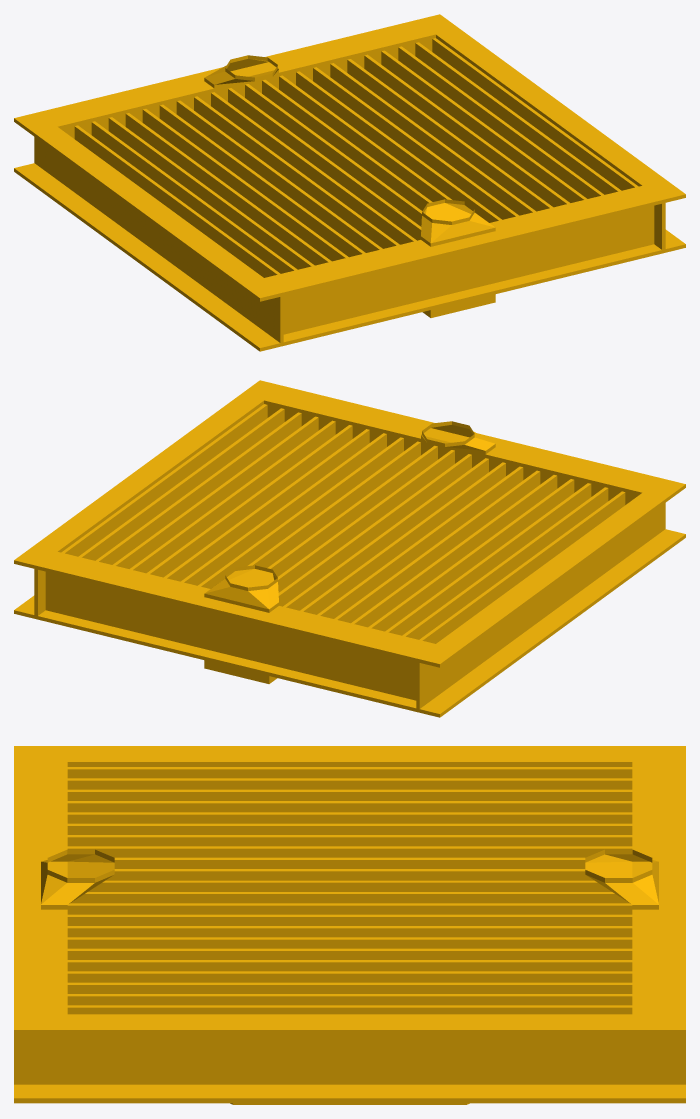
Rendered from fluid_radiator_electric_5x5x1.dae.
3 views of the same model, one above another, from view 1: azimuth 30°, elevation 25°; view 2: azimuth 150°, elevation 25°; view 3: azimuth 270°, elevation 25° (orthographic). The views are drawn at different scales.
Visible parts, largest first — view 1: Cube; view 2: Cube; view 3: Cube.
Part boxes in pixels (box(x1,y1,x2,y2)): Cube: box(14, 14, 685, 351); Cube: box(14, 380, 685, 717); Cube: box(14, 746, 685, 1103).
Size of the model in its own units: 1.25 by 1.25 by 0.25.
